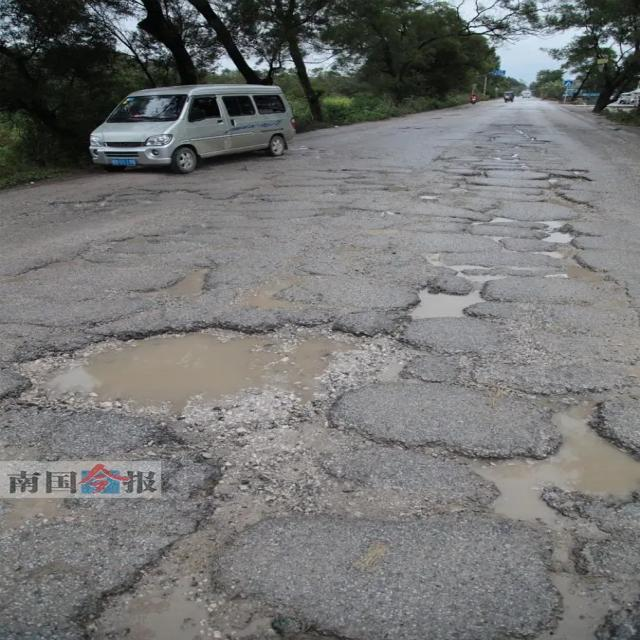Pothole: (19, 322, 430, 433), (458, 375, 639, 556), (460, 164, 605, 274), (388, 285, 499, 327)
